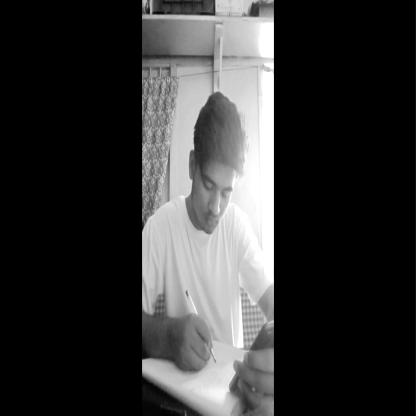Distracted: (189, 86, 242, 232)
